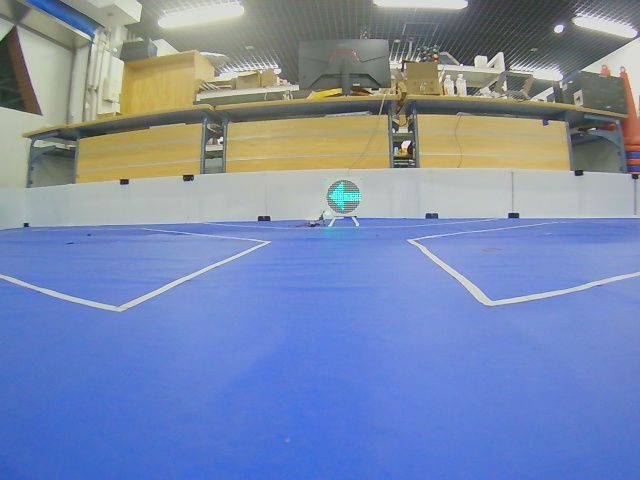left_green: (326, 180, 361, 214)
